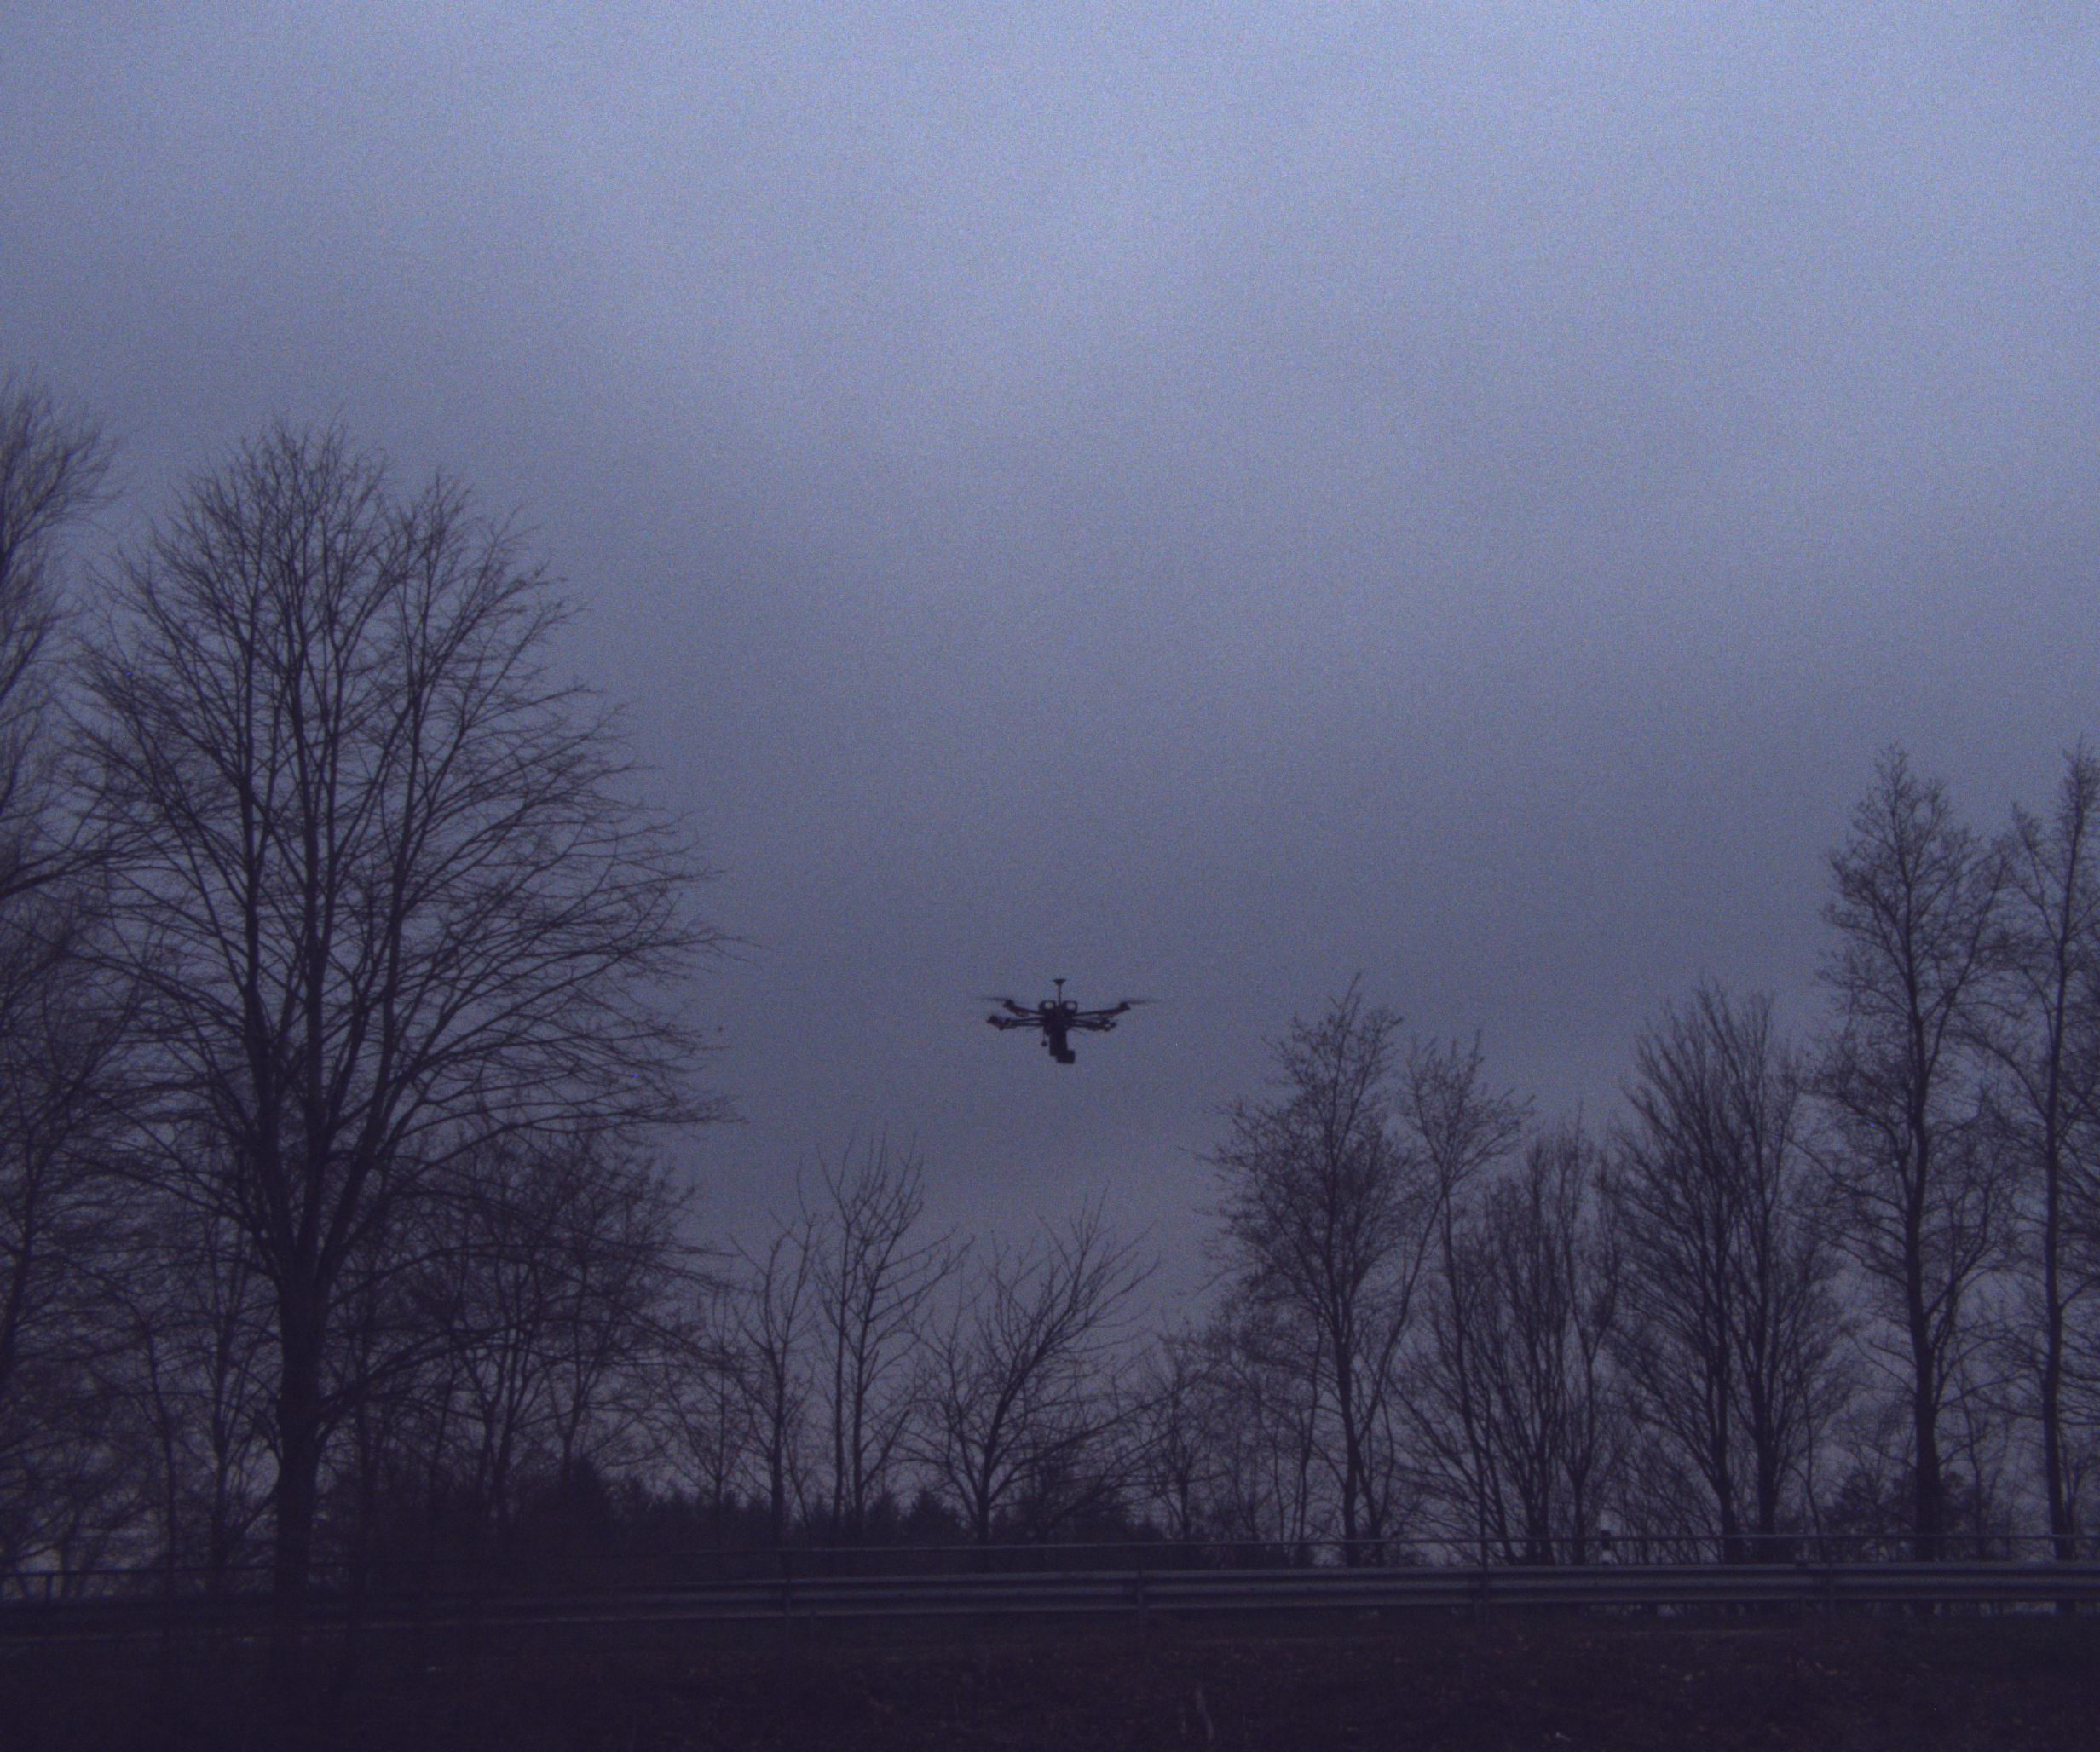Drohne: (949, 945, 1345, 1116)
